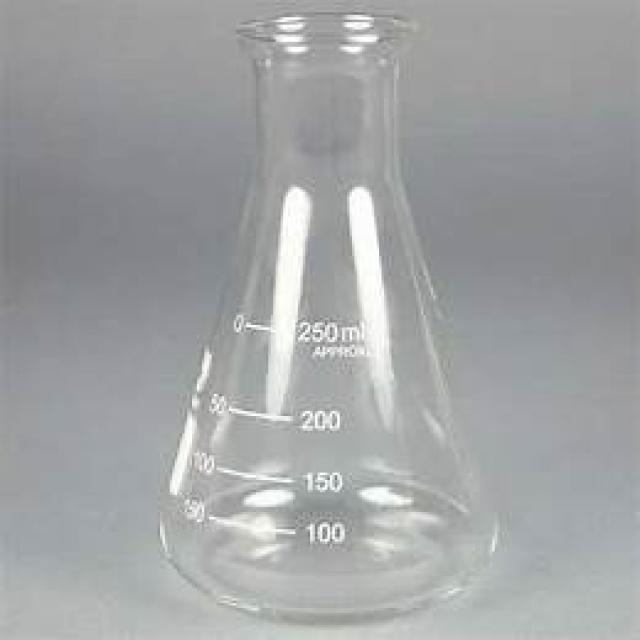Titrarion: (151, 22, 499, 618)
